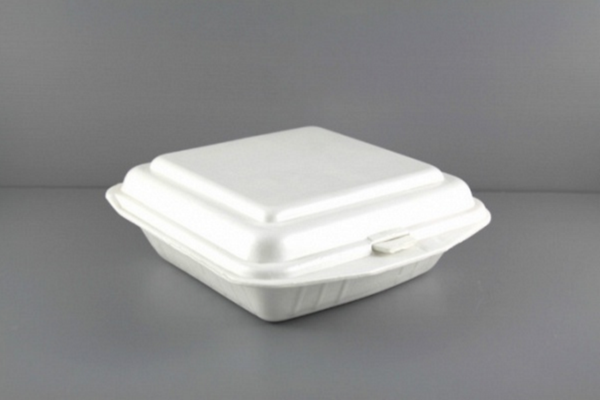Foam Box: (99, 120, 496, 325)
